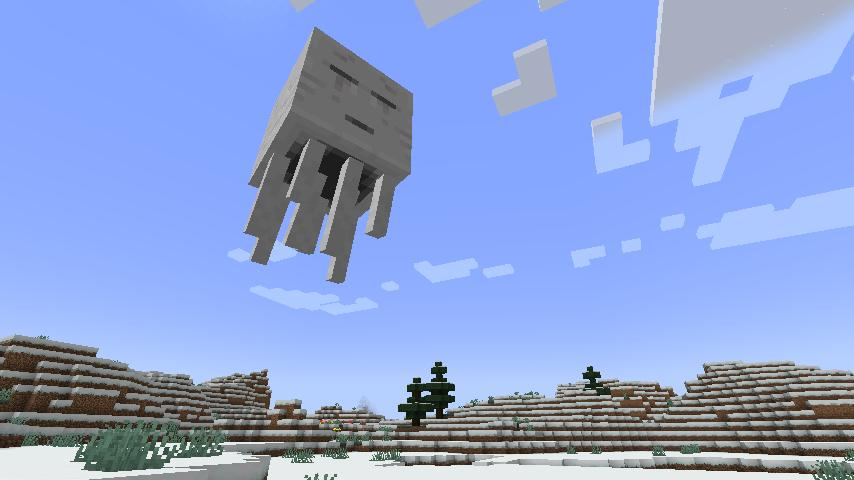ghast: (244, 24, 417, 291)
